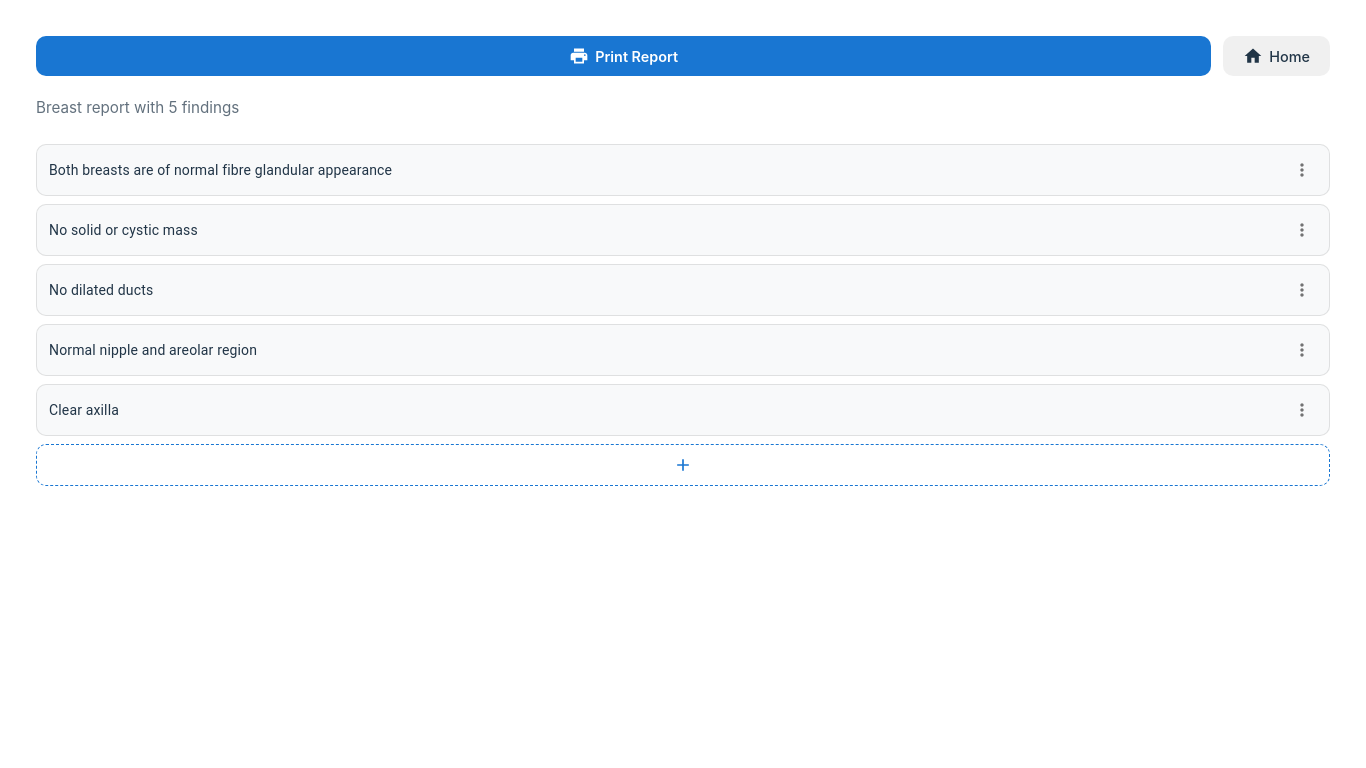
Test: MobileReviewCard › cancel edit with changes prompts discard dialog
Click the 1st button named "Finding options": [1302, 170] box [1287, 155, 1317, 185]
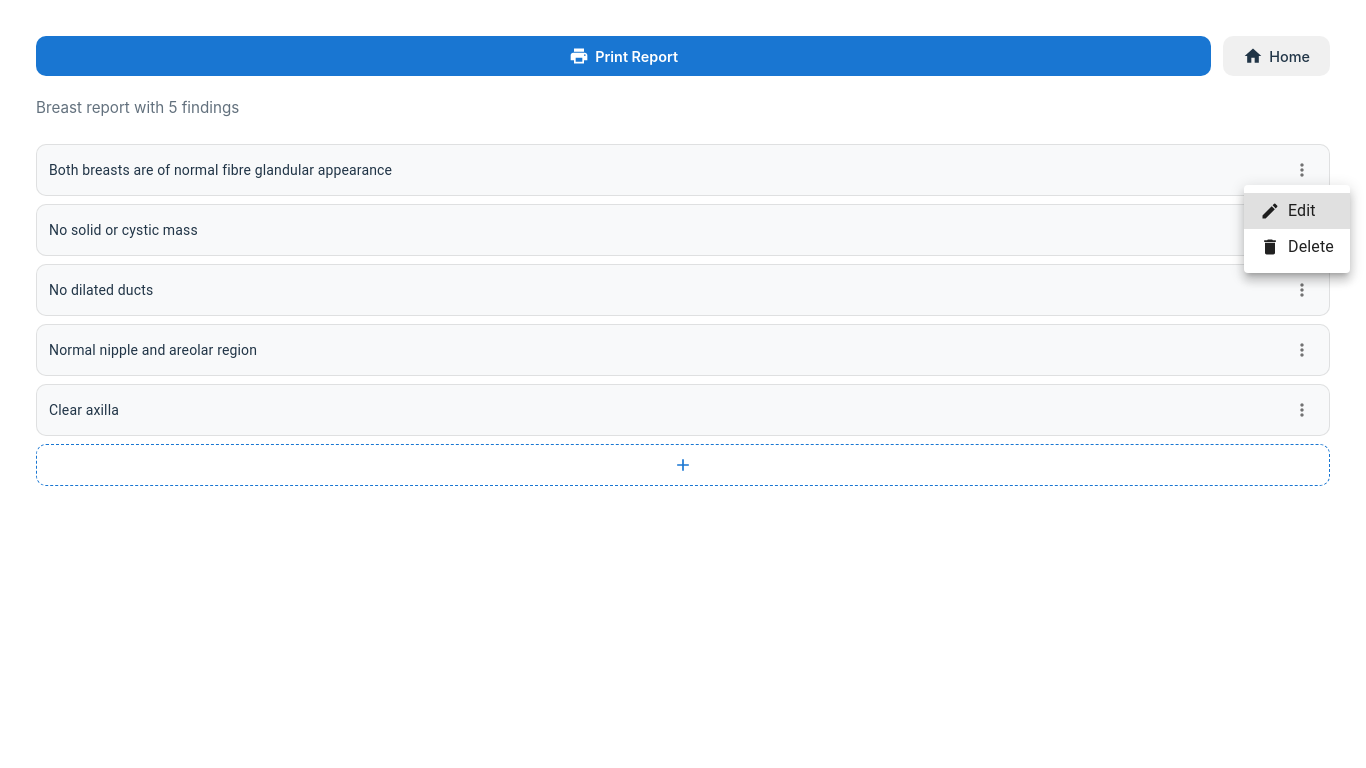
Click the menu item "Edit": [1297, 211] box [1244, 193, 1350, 229]
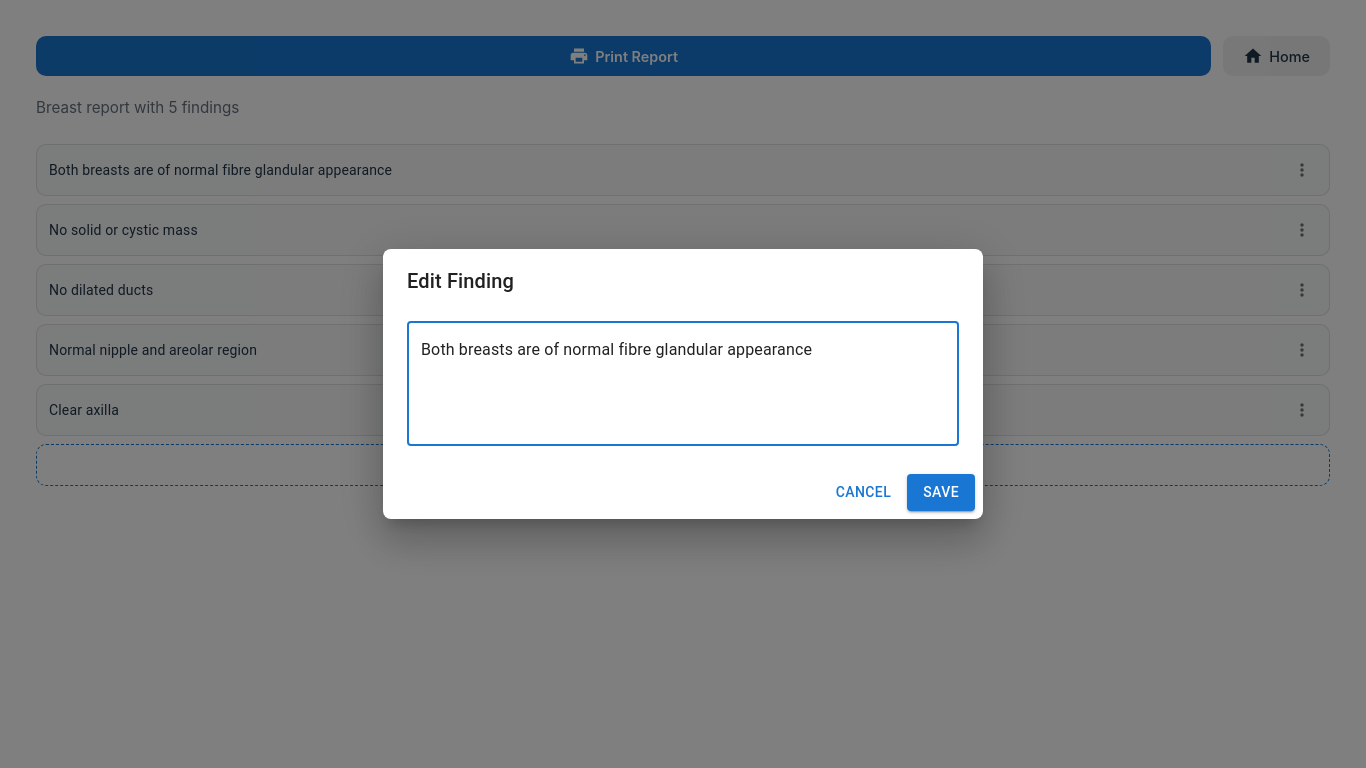
In the text box showing "Both breasts are of normal fibre glandular appearance": [683, 384] box [421, 338, 945, 430], type " extra"
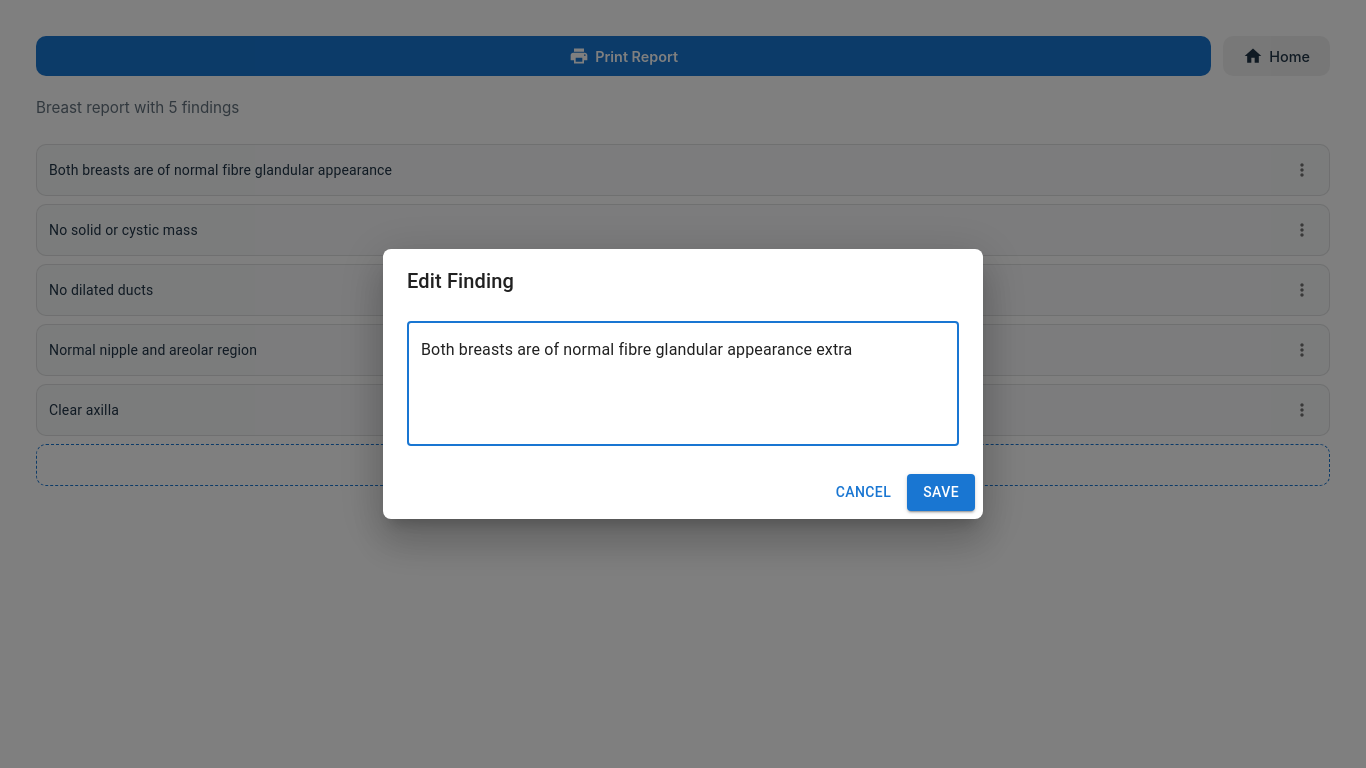
Click the button "Cancel": [863, 493] box [828, 474, 899, 511]
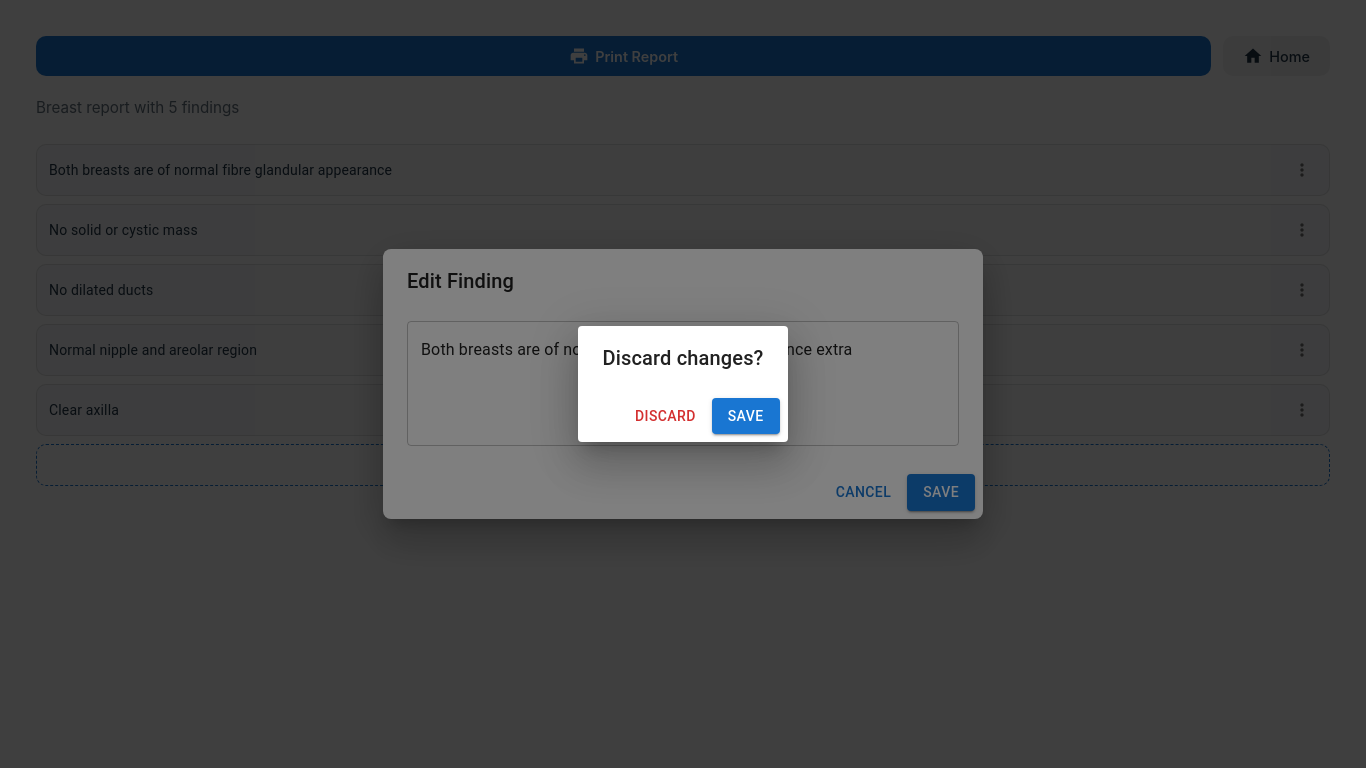
Now the heading "Discard changes?" is shown, box [602, 346, 764, 370]
